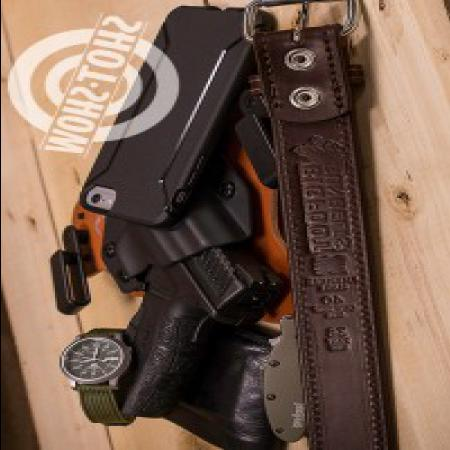Pistol: (112, 225, 272, 415)
